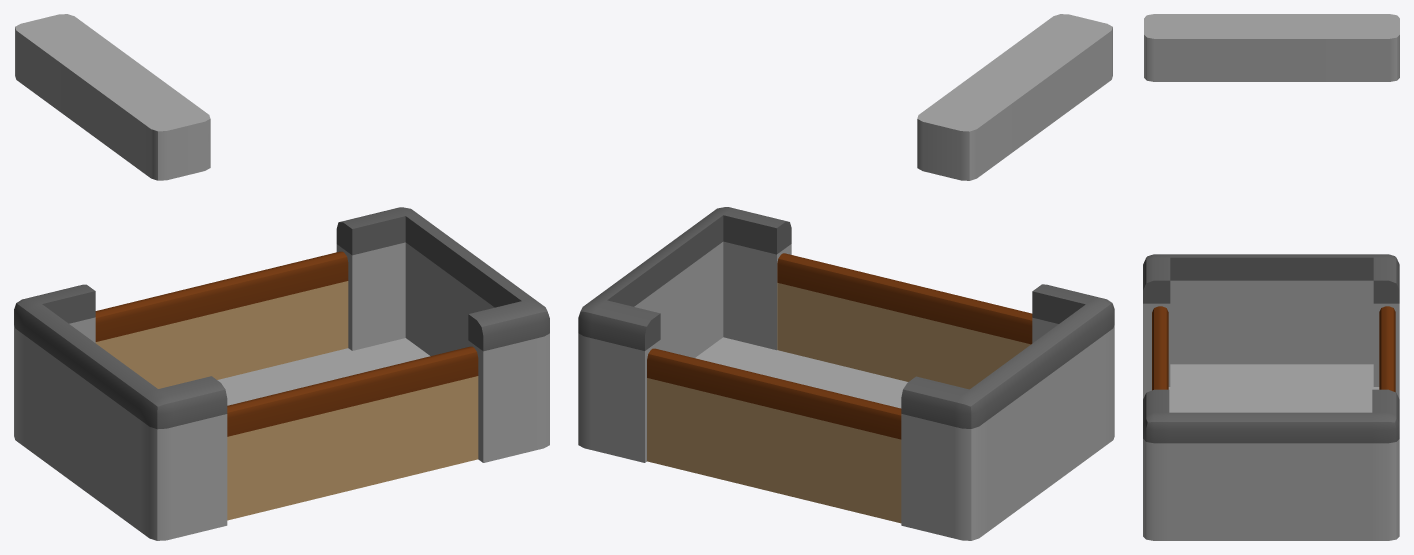
The model's file is thangmay.fbx.
The picture shows the model from 3 angles, left to right: view 1: azimuth 30°, elevation 25°; view 2: azimuth 150°, elevation 25°; view 3: azimuth 270°, elevation 25°; orthographic projection. The views are drawn at different scales.
Visible parts, largest first — view 1: body_thangmay, cua2, cua1, noc; view 2: body_thangmay, cua1, cua2, noc; view 3: body_thangmay, noc, cua1, cua2.
Part boxes in pixels (left/top/right/bottom): body_thangmay: left=14, top=207, right=549, bottom=540; cua2: left=227, top=346, right=478, bottom=520; cua1: left=95, top=251, right=348, bottom=388; noc: left=15, top=14, right=210, bottom=180; body_thangmay: left=578, top=207, right=1114, bottom=540; cua1: left=647, top=348, right=901, bottom=523; cua2: left=777, top=253, right=1032, bottom=389; noc: left=917, top=14, right=1112, bottom=180; body_thangmay: left=1143, top=254, right=1399, bottom=540; noc: left=1144, top=14, right=1399, bottom=81; cua1: left=1379, top=306, right=1395, bottom=392; cua2: left=1152, top=306, right=1168, bottom=390.
Size of the model in its own units: 24.49 by 23.98 by 15.62.
